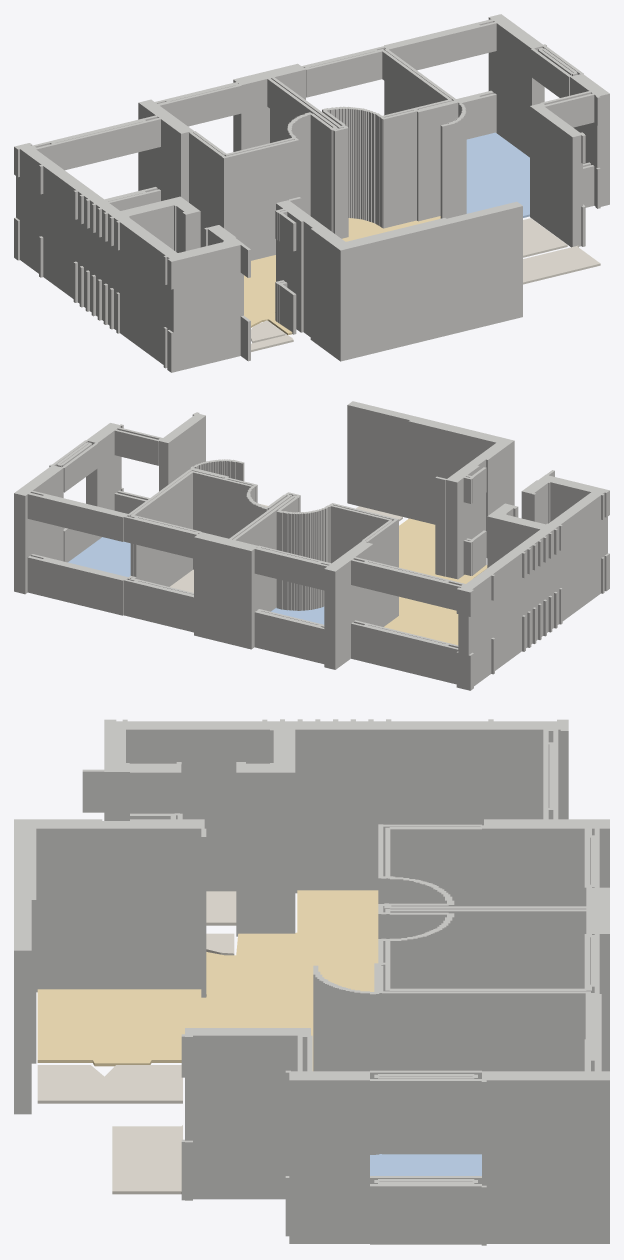
The picture shows the model from 3 angles, top to bottom: view 1: azimuth 30°, elevation 25°; view 2: azimuth 150°, elevation 25°; view 3: azimuth 270°, elevation 25°; orthographic projection. The views are drawn at different scales.
Visible parts, largest first — view 1: walls, room:bedroom:1, room:living:0, room:other:12, room:other:6, room:other:10; view 2: walls, room:living:0, room:bedroom:1, room:bedroom:2; view 3: walls, room:living:0, room:other:11, room:other:12, room:bedroom:1, room:other:8.
Boxes of the visible parts, x1,y1,x2,y2 form: walls: (14,14,609,372); room:bedroom:1: (466,132,529,217); room:living:0: (244,216,440,335); room:other:12: (523,245,600,284); room:other:6: (523,218,567,257); room:other:10: (251,320,285,343); walls: (14,401,609,690); room:living:0: (384,518,487,645); room:bedroom:1: (68,537,130,577); room:bedroom:2: (271,606,324,624); walls: (14,719,609,1245); room:living:0: (37,890,378,1070); room:other:11: (37,1065,182,1103); room:other:12: (112,1125,182,1194); room:bedroom:1: (370,1154,481,1175); room:other:8: (206,891,236,925).
Size of the model in its own units: 13.3 by 2.8 by 9.24.
